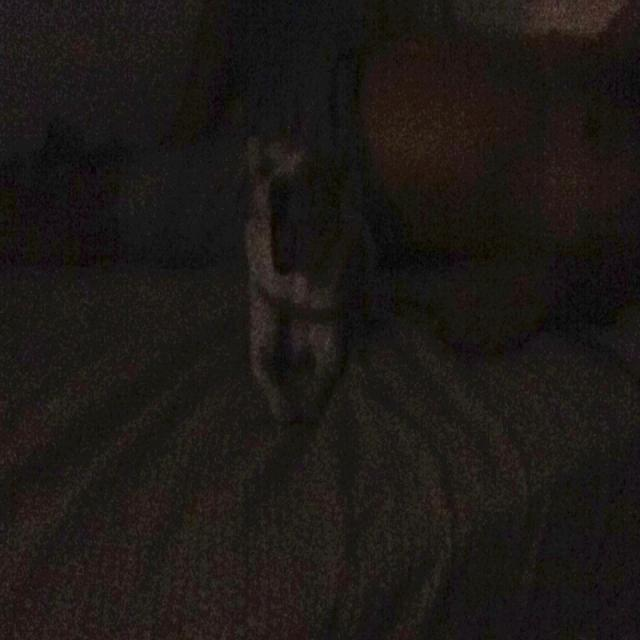Dog: (186, 133, 399, 417)
